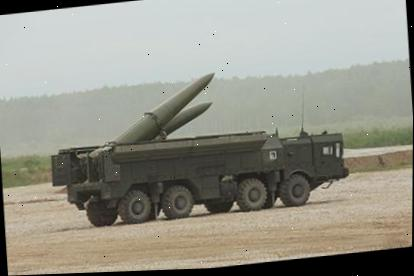rszo: (43, 116, 353, 242)
